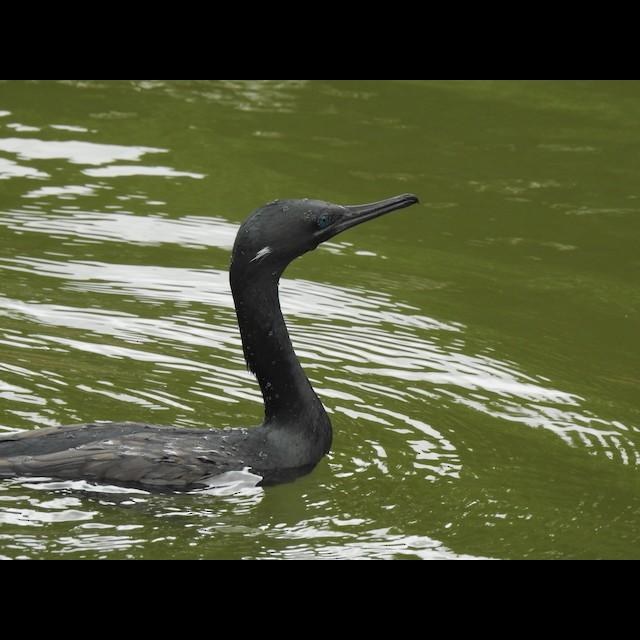cormorant: (3, 192, 421, 500)
